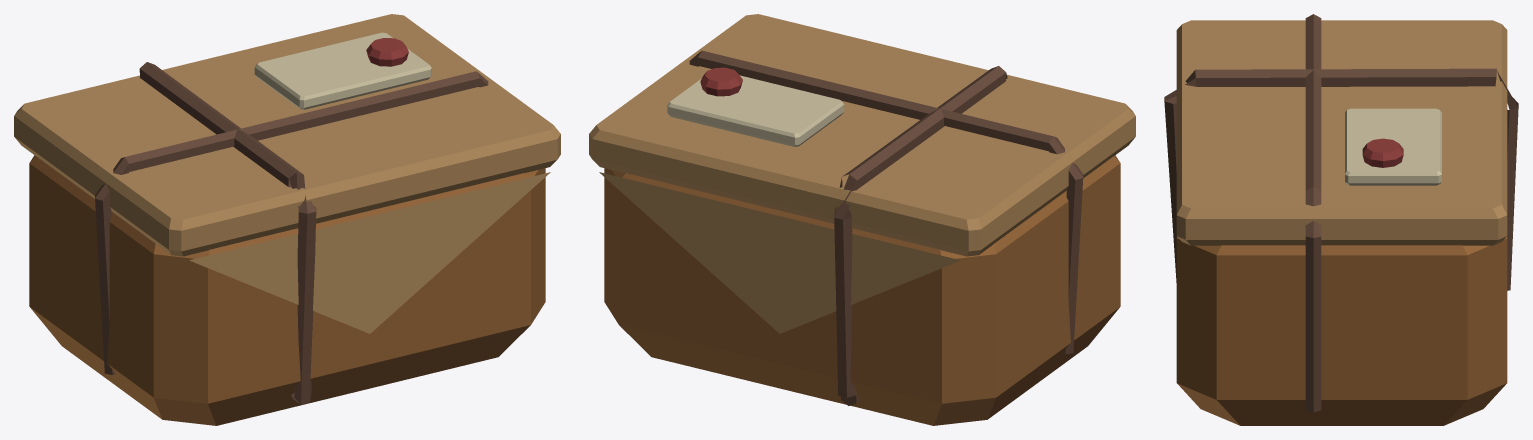
File: wrapped_parcel.glb
3 renders of one model, left to right at view 1: azimuth 30°, elevation 25°; view 2: azimuth 150°, elevation 25°; view 3: azimuth 270°, elevation 25°, orthographic.
Parts seen in each view (by area): view 1: wrapped_parcel; view 2: wrapped_parcel; view 3: wrapped_parcel.
Boxes of the visible parts, box(x1,y1,x2,y2) form: wrapped_parcel: box(14, 14, 560, 425); wrapped_parcel: box(589, 14, 1135, 425); wrapped_parcel: box(1164, 14, 1518, 425).
Size of the model in its own units: 0.4219 by 0.245 by 0.3106.
